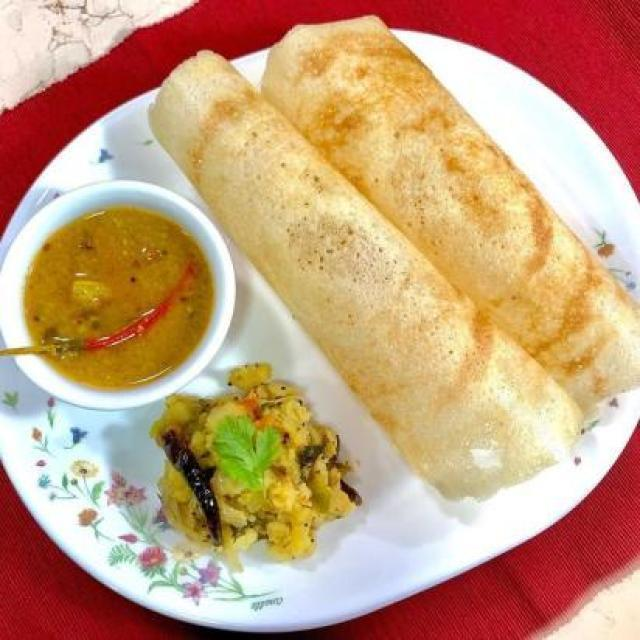dosa: (137, 36, 585, 519), (245, 11, 640, 446)
sambhar: (6, 168, 242, 399)
